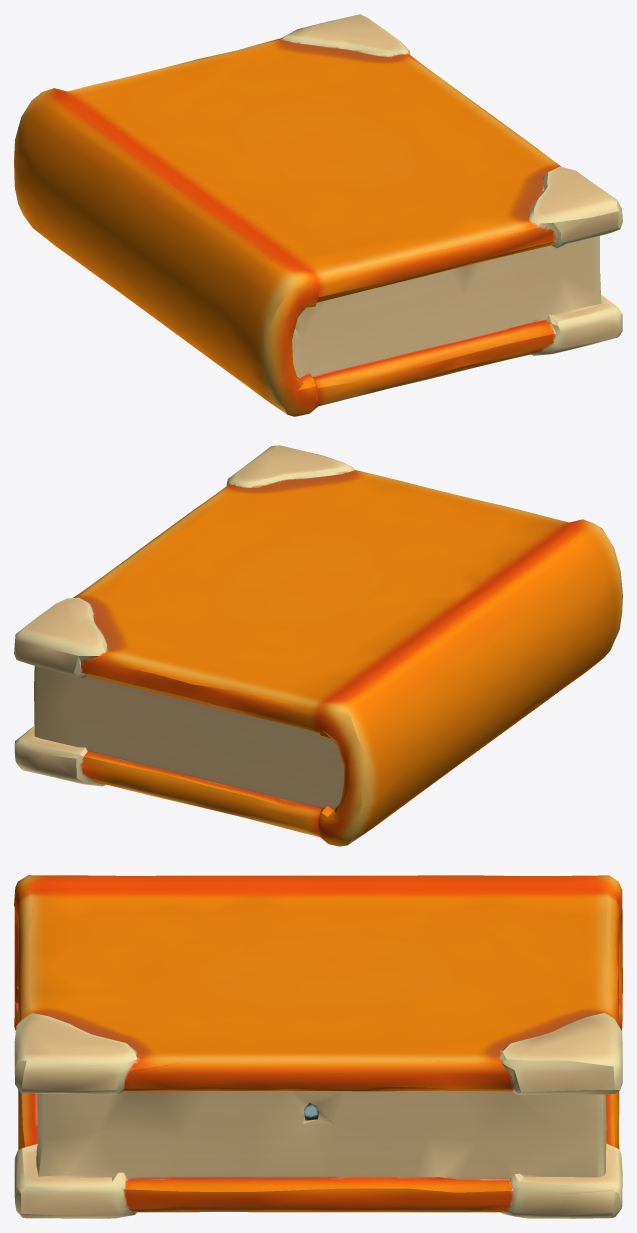
The model's file is TT_BookYellow.glb.
3 renders of one model, top to bottom at view 1: azimuth 30°, elevation 25°; view 2: azimuth 150°, elevation 25°; view 3: azimuth 270°, elevation 25°, orthographic. The views are drawn at different scales.
Parts seen in each view (by area): view 1: geometry_0; view 2: geometry_0; view 3: geometry_0.
Boxes of the visible parts, bbox=[...] form: geometry_0: bbox=[14, 14, 622, 416]; geometry_0: bbox=[14, 445, 622, 846]; geometry_0: bbox=[14, 875, 622, 1218].
Bounding box in the file's own units: 0.786 × 0.2994 × 1.
Materials: 1 (1 with a texture image).
